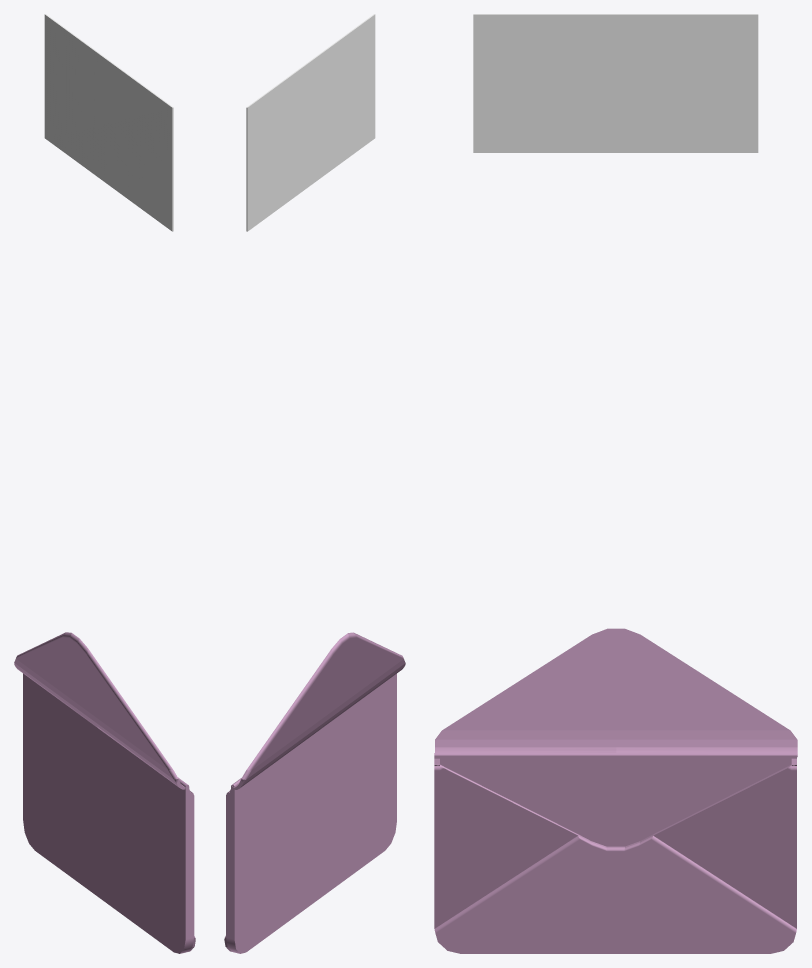
Rendered from envelope--animated.glb.
3 renders of one model, left to right at view 1: azimuth 30°, elevation 25°; view 2: azimuth 150°, elevation 25°; view 3: azimuth 270°, elevation 25°, orthographic. The views are drawn at different scales.
Visible parts, largest first — view 1: envelope, Letter, Flap; view 2: envelope, Letter, Flap; view 3: envelope, Letter, Flap.
Part boxes in pixels (box(x1,y1,x2,y2)): envelope: box(23, 673, 195, 953); Letter: box(44, 14, 173, 231); Flap: box(14, 632, 185, 789); envelope: box(224, 674, 396, 953); Letter: box(246, 14, 375, 231); Flap: box(231, 632, 405, 789); envelope: box(434, 753, 796, 953); Letter: box(473, 14, 758, 152); Flap: box(435, 628, 797, 757).
Size of the model in its own units: 0.2702 by 5.23 by 1.84.
